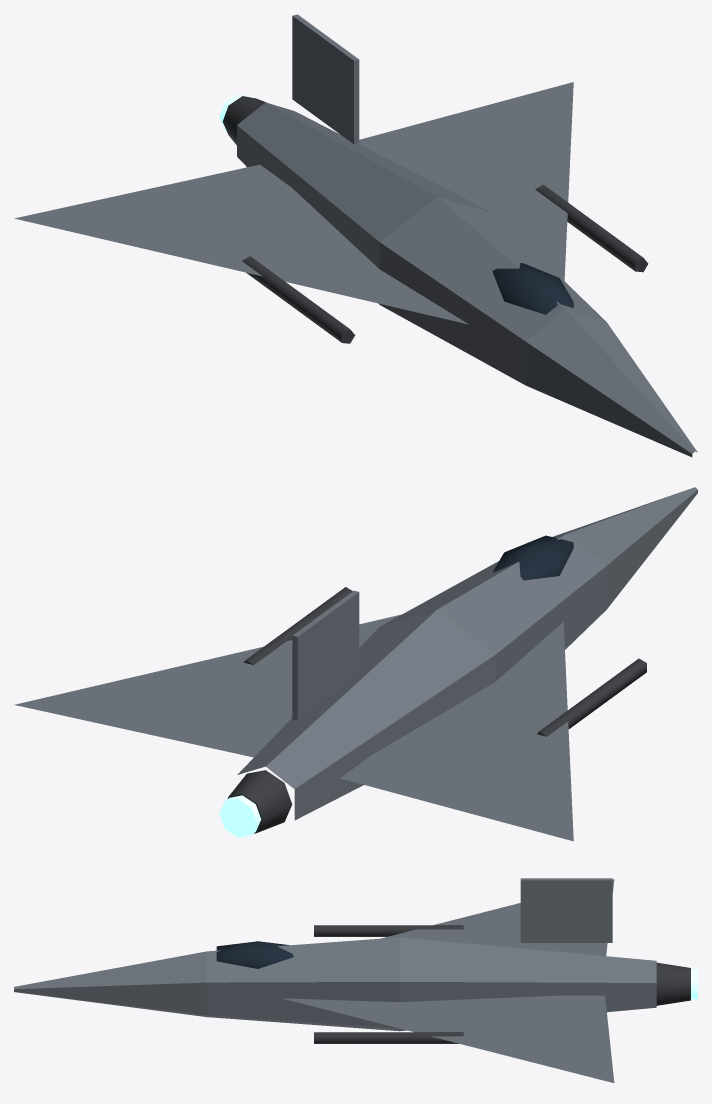
Rendered from space_ship_interceptor_mk3.glb.
3 renders of one model, top to bottom at view 1: azimuth 30°, elevation 25°; view 2: azimuth 150°, elevation 25°; view 3: azimuth 270°, elevation 25°, orthographic. The views are drawn at different scales.
Visible parts, largest first — view 1: body, gun_r, gun_l, engine_0; view 2: body, engine_0, gun_r, gun_l; view 3: body, gun_l, engine_0, gun_r.
Boxes of the visible parts, x1=… form: body: x1=14, y1=14, x2=697, y2=457; gun_r: x1=242, y1=256, x2=355, y2=343; gun_l: x1=535, y1=184, x2=648, y2=272; engine_0: x1=219, y1=94, x2=267, y2=145; body: x1=14, y1=487, x2=697, y2=841; engine_0: x1=219, y1=770, x2=292, y2=837; gun_r: x1=537, y1=658, x2=646, y2=736; gun_l: x1=244, y1=587, x2=352, y2=664; body: x1=14, y1=878, x2=656, y2=1082; gun_l: x1=314, y1=1032, x2=463, y2=1043; engine_0: x1=656, y1=962, x2=697, y2=1005; gun_r: x1=314, y1=925, x2=463, y2=936.
Size of what is drawn, in the model's own units: 8.4 by 2.91 by 11.88.
